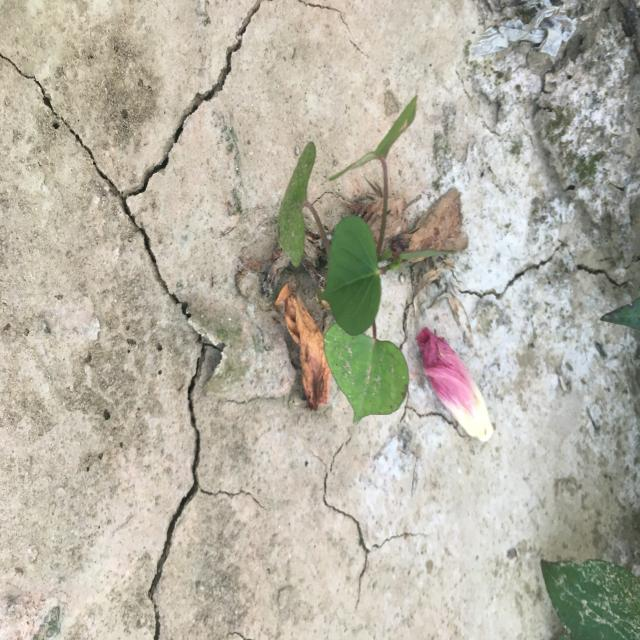MorningGlory: (274, 91, 454, 427)
